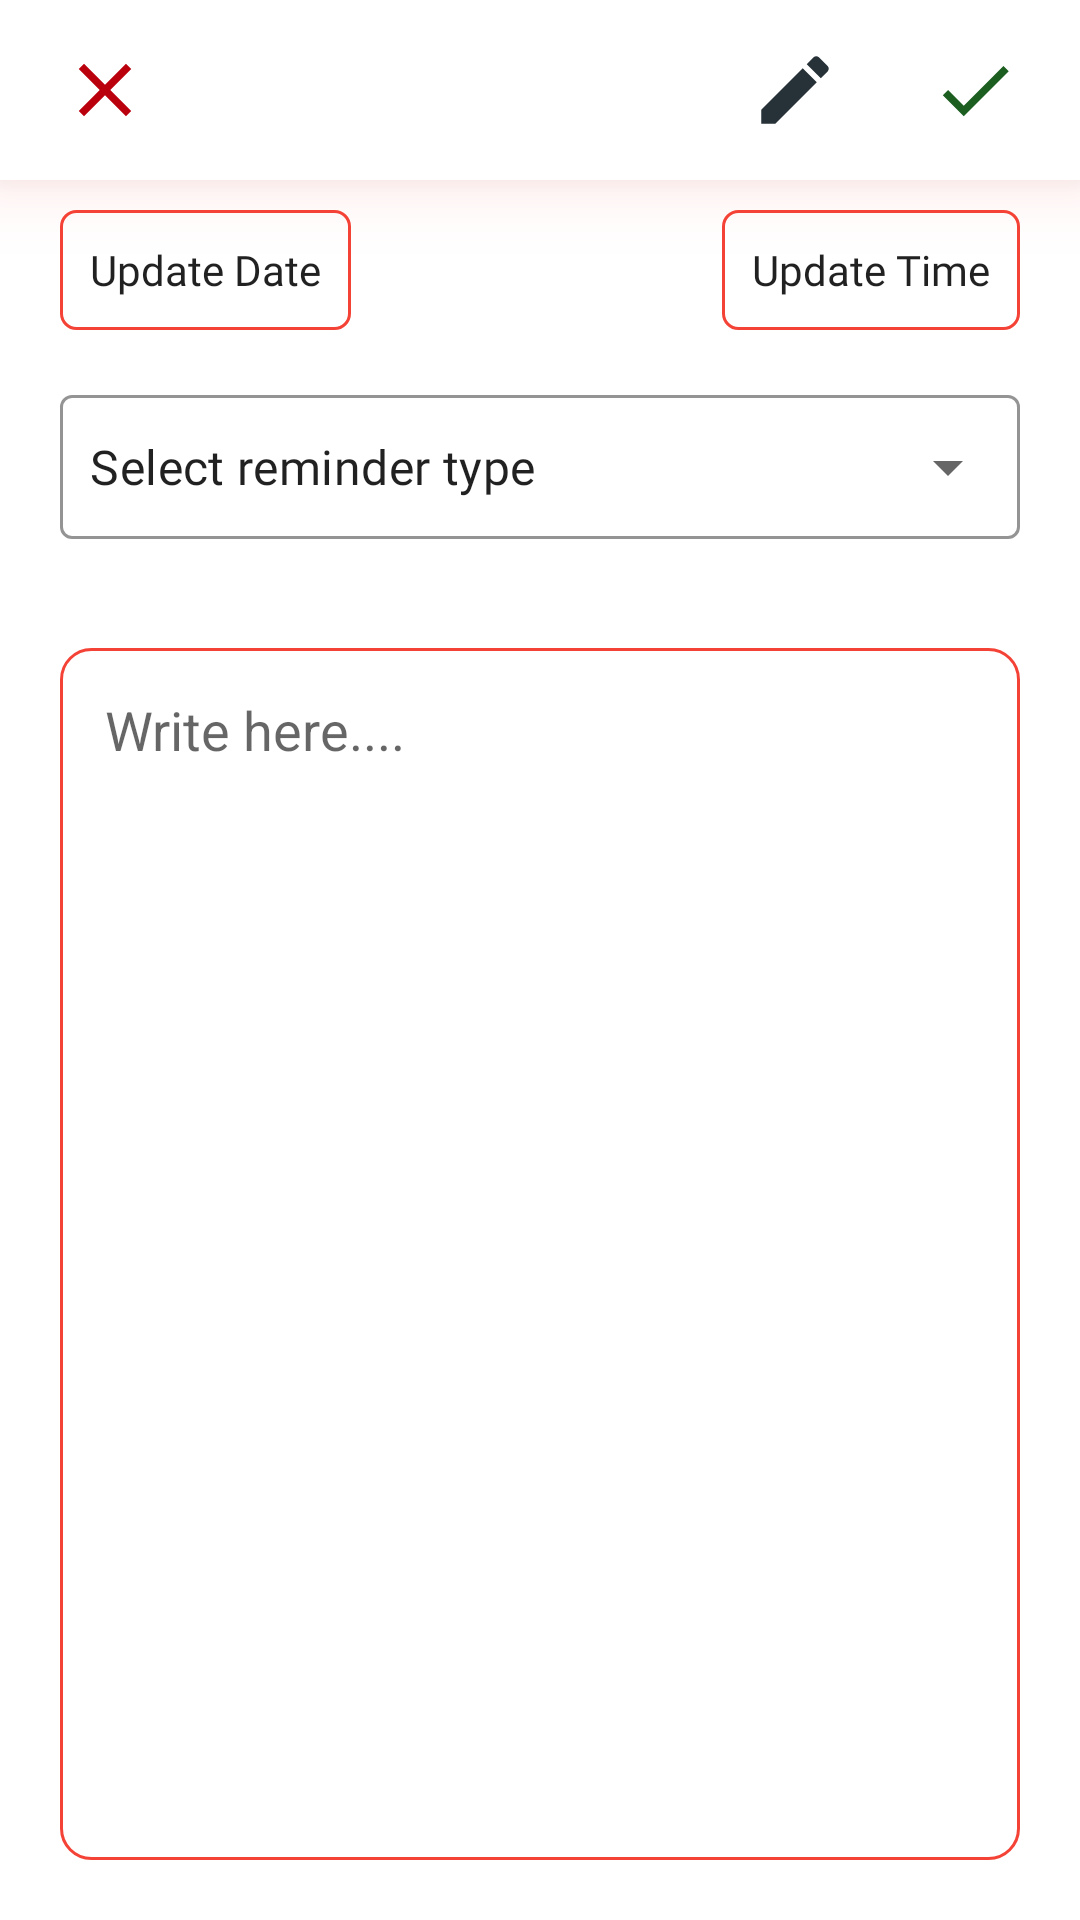

Where to tap for icons on this 1080w x 1920h app screen, as (x,y):
check: (976,91)
clear: (105,90)
edit: (795,90)
